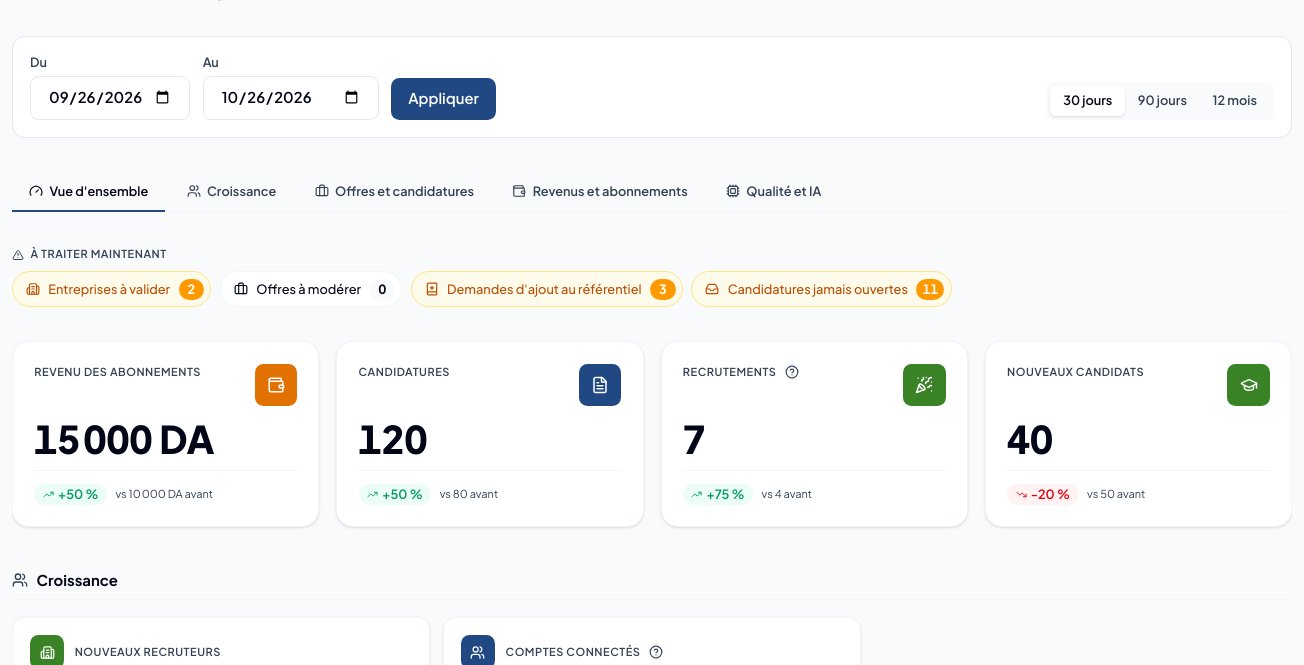
Scenario: 📈 UI & Logique - Composant <AdminKpi /> › n'appelle le détail d'un thème qu'à l'ouverture de son onglet
The width and height of the screenshot is (1304, 665).
Expected: the heading "Croissance" is shown, x1=36 y1=570 x2=118 y2=591
What coordinates should you click on to do the following:
click the tab "Offres et candidatures"
I would click on:
 (394, 192)
Its box is x1=298 y1=172 x2=491 y2=212.
(page scrolled)
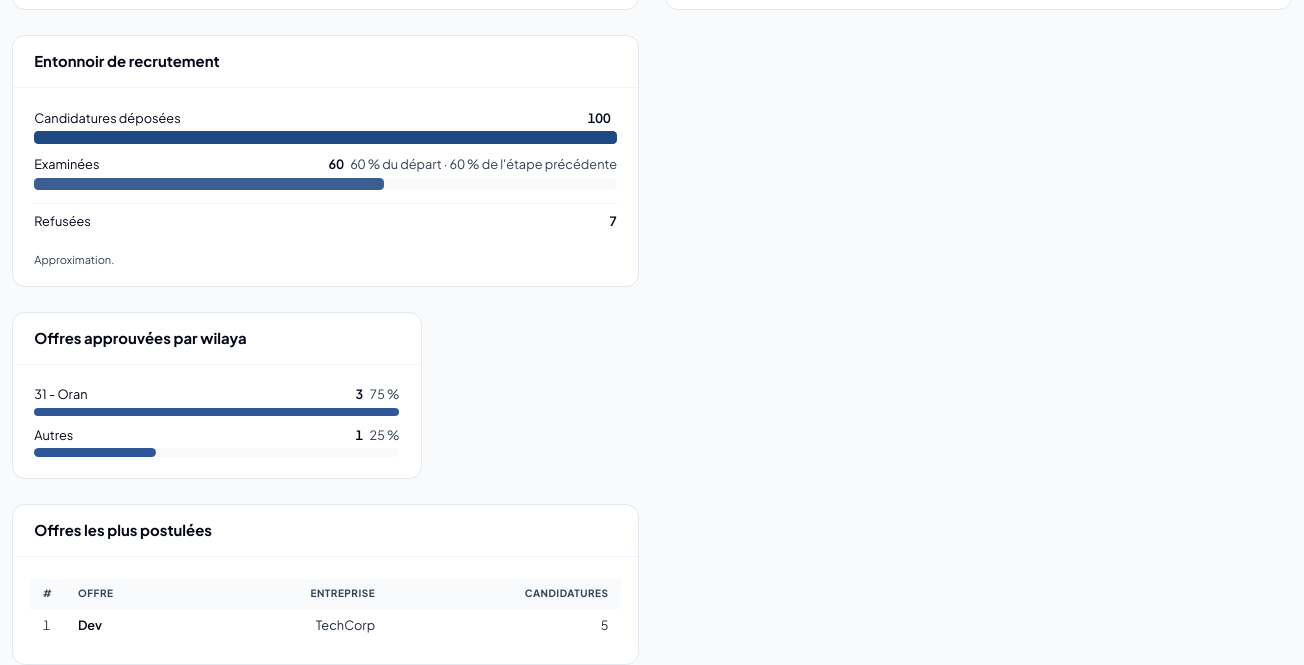
Expected: the heading "Offres approuvées par wilaya" is shown, x1=34 y1=329 x2=247 y2=347
